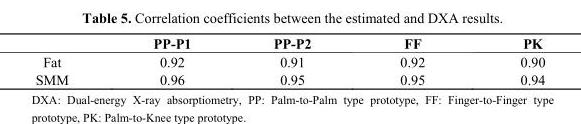table: (34, 35, 544, 87)
table column: (231, 35, 355, 87), (110, 35, 231, 87), (355, 35, 471, 87), (34, 35, 110, 87), (471, 35, 544, 87)
table column header: (34, 35, 544, 52)
table row: (34, 52, 544, 70), (34, 35, 544, 52), (34, 70, 544, 87)
